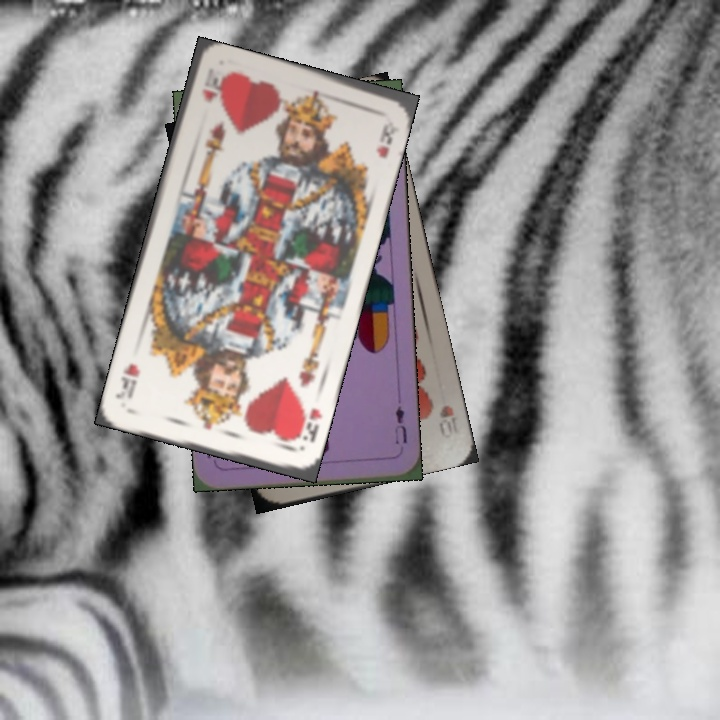EU: (390, 402, 410, 446)
H10: (435, 401, 457, 441)
HK: (290, 398, 325, 445), (198, 65, 221, 106)
